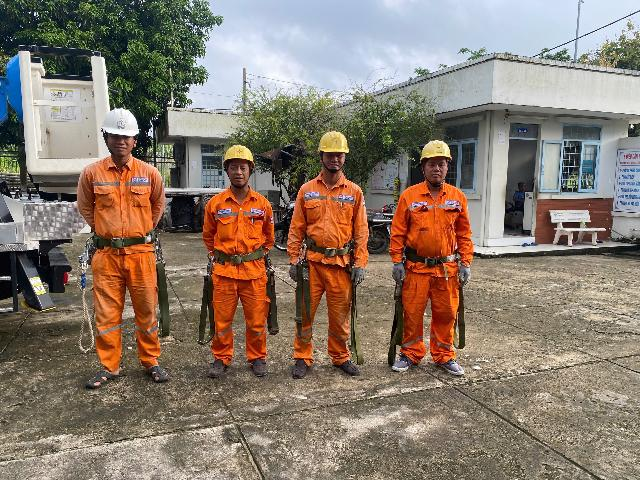gloves: (391, 260, 409, 284), (351, 261, 366, 287), (458, 263, 473, 287), (287, 262, 299, 279)
harness: (300, 232, 357, 260), (404, 240, 460, 267), (87, 228, 160, 248), (208, 243, 270, 266)
helmet: (100, 104, 140, 140), (317, 126, 351, 155), (417, 137, 453, 162), (221, 140, 254, 166)
shoes: (145, 361, 180, 388), (79, 369, 124, 388), (433, 352, 466, 377), (290, 351, 313, 379), (331, 357, 361, 377), (204, 354, 228, 378), (249, 357, 269, 377), (393, 353, 415, 371)
